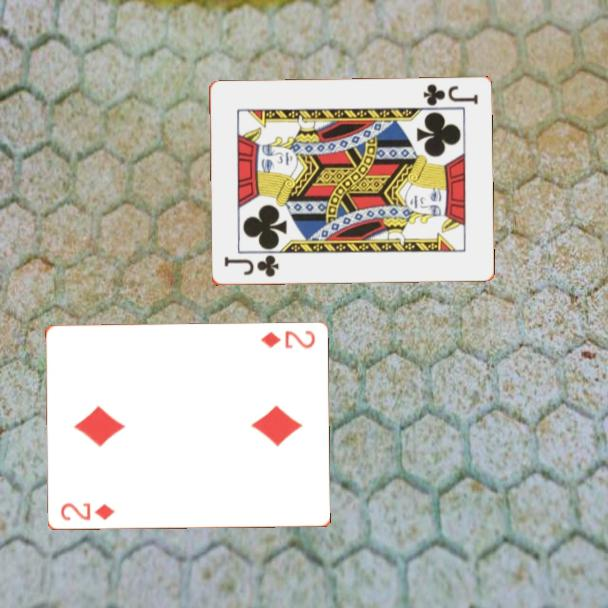c11: (220, 252, 281, 280), (419, 81, 480, 109)
d02: (257, 327, 318, 352), (57, 499, 117, 524)
